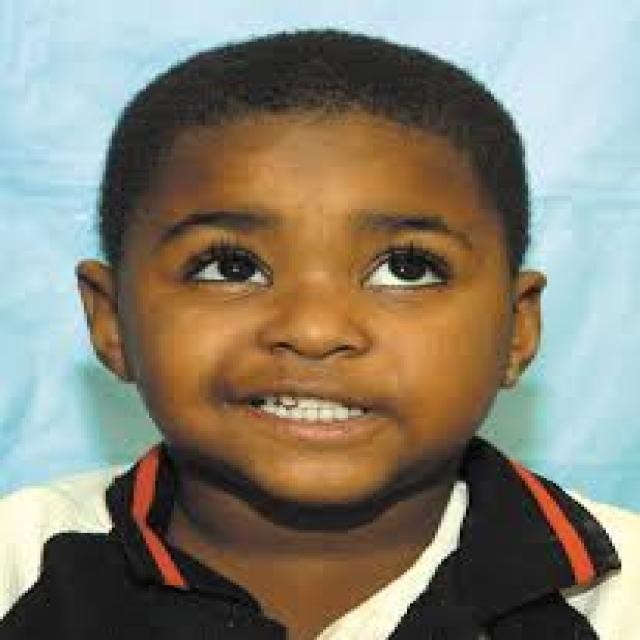normal_face: (80, 55, 589, 511)
